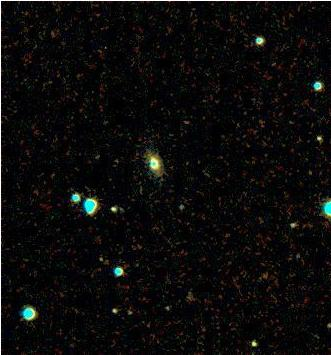star: (86, 246, 116, 276)
